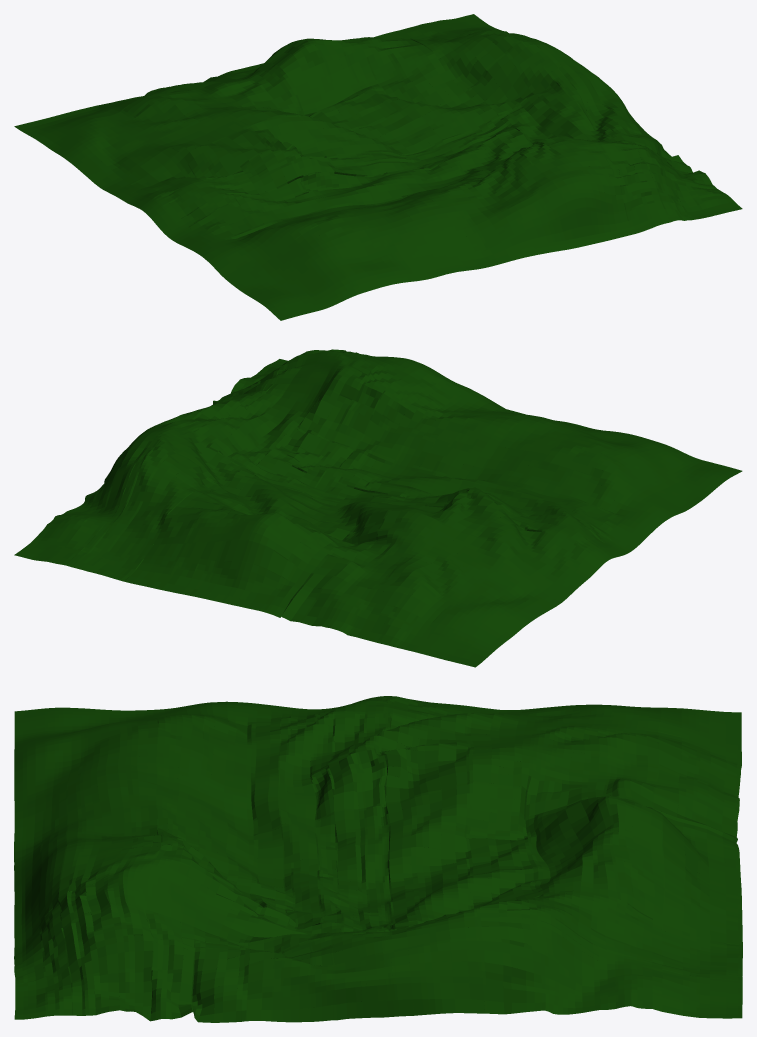
File: plansza.fbx
3 views of the same model, one above another, from view 1: azimuth 30°, elevation 25°; view 2: azimuth 150°, elevation 25°; view 3: azimuth 270°, elevation 25° (orthographic). The views are drawn at different scales.
Visible parts, largest first — view 1: Grid; view 2: Grid; view 3: Grid.
Part boxes in pixels (x1,y1,x2,y2): Grid: (14,14,742,320); Grid: (14,349,742,667); Grid: (14,696,742,1022).
Bounding box in the file's own units: 11804 × 1501 × 11663.
